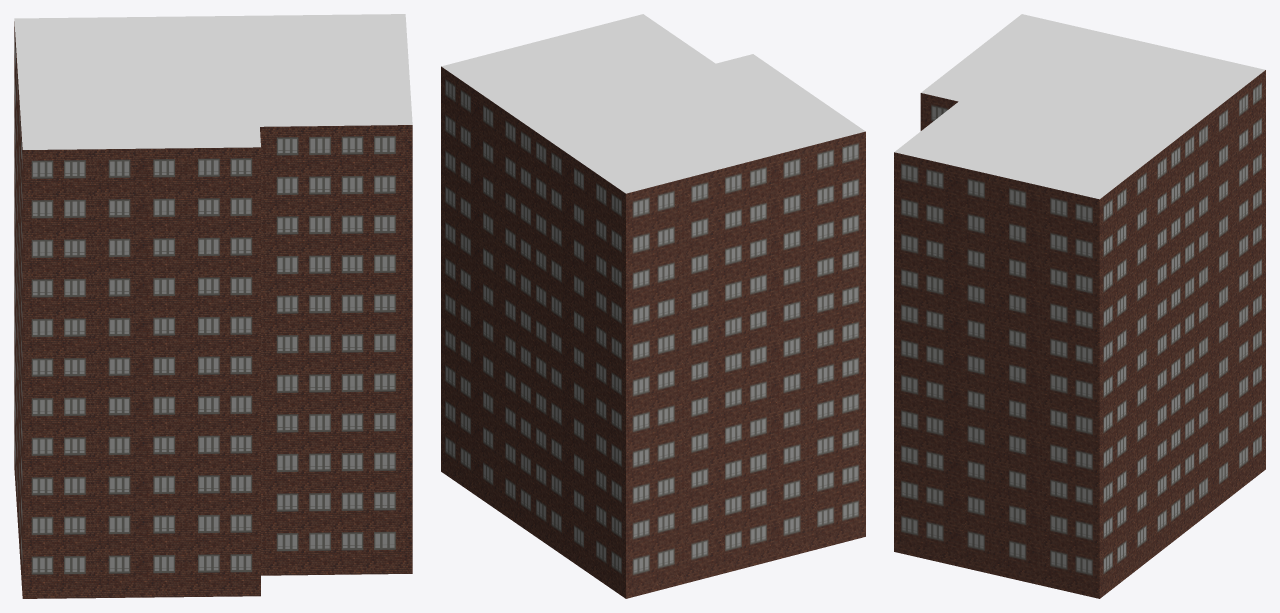
Rendered from building.fbx.
3 views of the same model, side by side, from view 1: azimuth 30°, elevation 25°; view 2: azimuth 150°, elevation 25°; view 3: azimuth 270°, elevation 25° (orthographic). The views are drawn at different scales.
Parts seen in each view (by area): view 1: geopipeinode-FVyGU7K, geopipeinode-FVyGU7K.002, geopipeinode-FVyGU7K.001; view 2: geopipeinode-FVyGU7K, geopipeinode-FVyGU7K.002, geopipeinode-FVyGU7K.001; view 3: geopipeinode-FVyGU7K, geopipeinode-FVyGU7K.001, geopipeinode-FVyGU7K.002.
Boxes of the visible parts, <box> form: geopipeinode-FVyGU7K: <box>14,21,400,585</box>; geopipeinode-FVyGU7K.002: <box>14,14,412,149</box>; geopipeinode-FVyGU7K.001: <box>14,48,412,598</box>; geopipeinode-FVyGU7K: <box>442,68,862,585</box>; geopipeinode-FVyGU7K.002: <box>441,14,865,193</box>; geopipeinode-FVyGU7K.001: <box>441,66,865,598</box>; geopipeinode-FVyGU7K: <box>897,71,1264,586</box>; geopipeinode-FVyGU7K.001: <box>894,70,1265,598</box>; geopipeinode-FVyGU7K.002: <box>894,14,1265,199</box>.
Size of the model in its own units: 4785 by 4810 by 4055.
3 materials, 2 textured.
